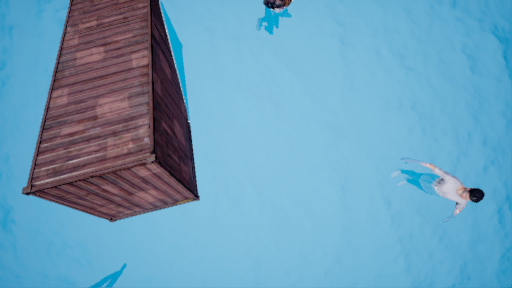person: (389, 157, 484, 217)
